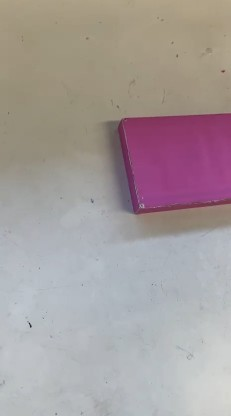pink: (102, 120, 229, 194)
